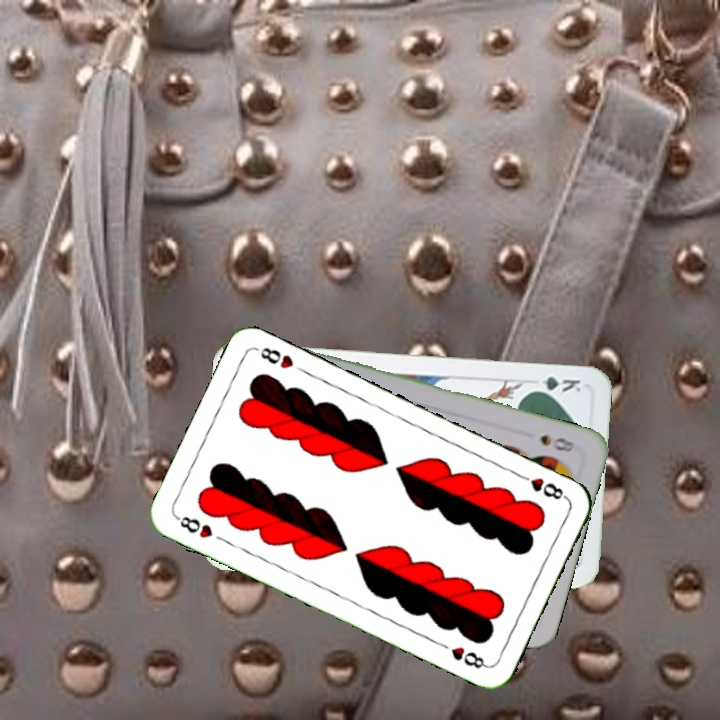GK: (526, 372, 584, 395)
H8: (514, 470, 570, 502), (172, 512, 216, 541)
S8: (536, 431, 579, 455)
